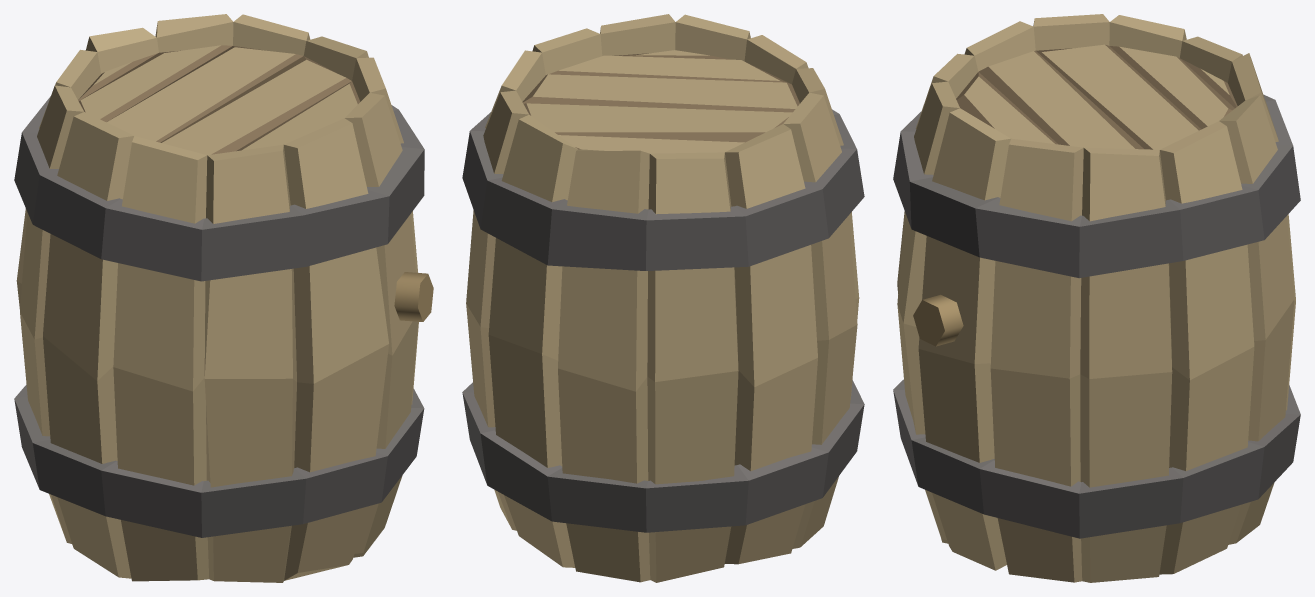
The model's file is Barrel.fbx.
The picture shows the model from 3 angles, left to right: view 1: azimuth 30°, elevation 25°; view 2: azimuth 150°, elevation 25°; view 3: azimuth 270°, elevation 25°; orthographic projection.
Parts seen in each view (by area): view 1: TwP_prop_Barrel_01; view 2: TwP_prop_Barrel_01; view 3: TwP_prop_Barrel_01.
Boxes of the visible parts, left/top/right/bottom form: TwP_prop_Barrel_01: left=14, top=14, right=433, bottom=582; TwP_prop_Barrel_01: left=462, top=14, right=864, bottom=582; TwP_prop_Barrel_01: left=893, top=14, right=1300, bottom=582.
Bounding box in the file's own units: 0.9285 × 1.12 × 0.9285.
1 material, 1 textured.
